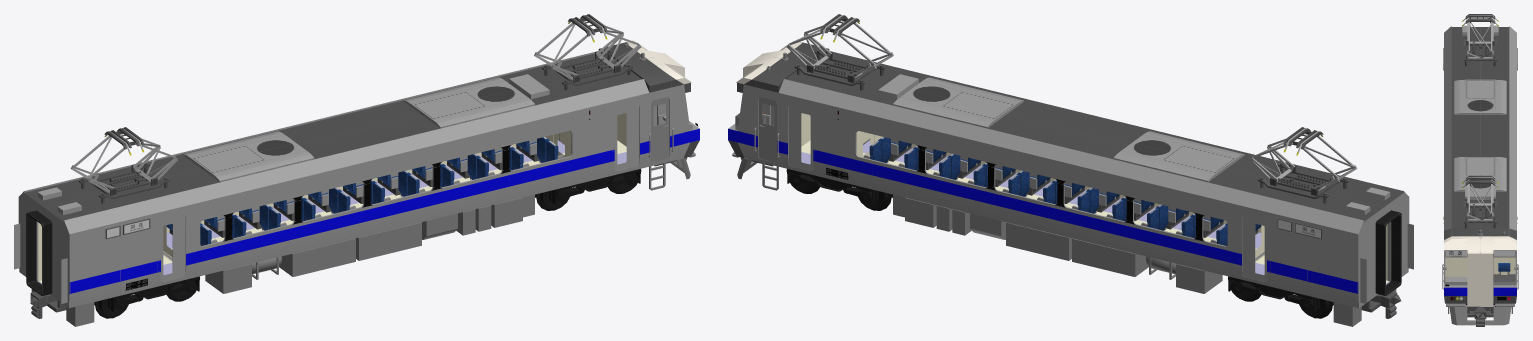
The picture shows the model from 3 angles, left to right: view 1: azimuth 30°, elevation 25°; view 2: azimuth 150°, elevation 25°; view 3: azimuth 270°, elevation 25°; orthographic projection. The views are drawn at different scales.
Parts seen in each view (by area): view 1: Body0_outer, AirCon, UF_equip, Seat, horo_UA, door.R, Floor, panto_0_front, panto_0_back, frame_out, frame_out.001, glass-door_UA (+7 smaller); view 2: Body0_outer, AirCon, UF_equip, Seat, horo_UA, door.L, Floor, panto_0_front, panto_0_back, frame_out, frame_out.001, glass-door_UA (+7 smaller); view 3: Body0_outer, AirCon, Skirt, OF_equip, C_door.R, C_door.L, Sept, panto_0_back, panto_0_front, Coupler, con_base, panto_3_back (+8 smaller).
Part boxes in pixels (x1,y1,x2,y2): Body0_outer: (18,40,699,308); AirCon: (37,74,549,214); UF_equip: (31,163,665,326); Seat: (166,137,564,245); horo_UA: (14,210,67,303); door.R: (160,104,639,281); Floor: (38,140,626,284); panto_0_front: (542,49,633,90); panto_0_back: (79,162,169,203); frame_out: (549,169,640,204); frame_out.001: (108,276,199,311); glass-door_UA: (650,97,669,162); Body0_outer: (728,40,1409,308); AirCon: (878,74,1390,214); UF_equip: (762,163,1396,326); Seat: (863,137,1261,245); horo_UA: (1360,210,1413,303); door.L: (788,104,1267,281); Floor: (801,140,1389,284); panto_0_front: (794,49,885,90); panto_0_back: (1258,162,1348,203); frame_out: (787,169,878,204); frame_out.001: (1228,276,1319,311); glass-door_UA: (758,97,777,162); Body0_outer: (1444,26,1516,303); AirCon: (1454,25,1506,199); Skirt: (1446,303,1514,325); OF_equip: (1442,48,1518,301); C_door.R: (1480,252,1493,306); C_door.L: (1467,252,1480,306); Sept: (1445,257,1515,276); panto_0_back: (1463,36,1497,66); panto_0_front: (1463,198,1497,228); Coupler: (1467,307,1493,326); con_base: (1493,263,1515,281); panto_3_back: (1462,14,1498,26).
Bounding box in the file's own units: 21 × 5.19 × 2.94.
